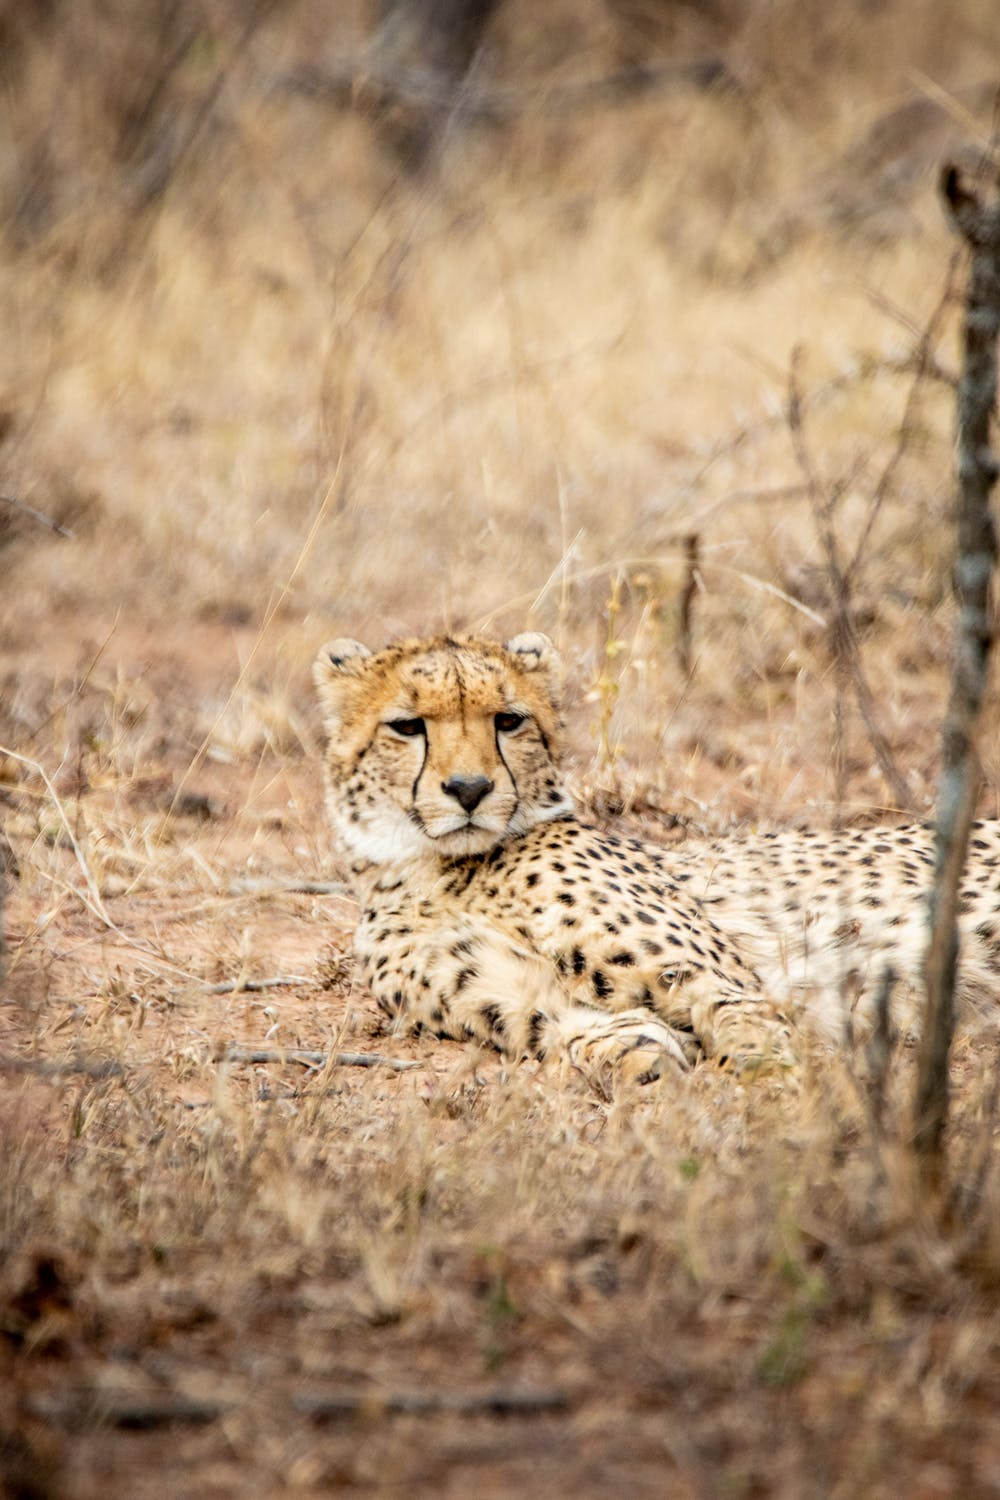cheetah: (258, 600, 621, 888)
